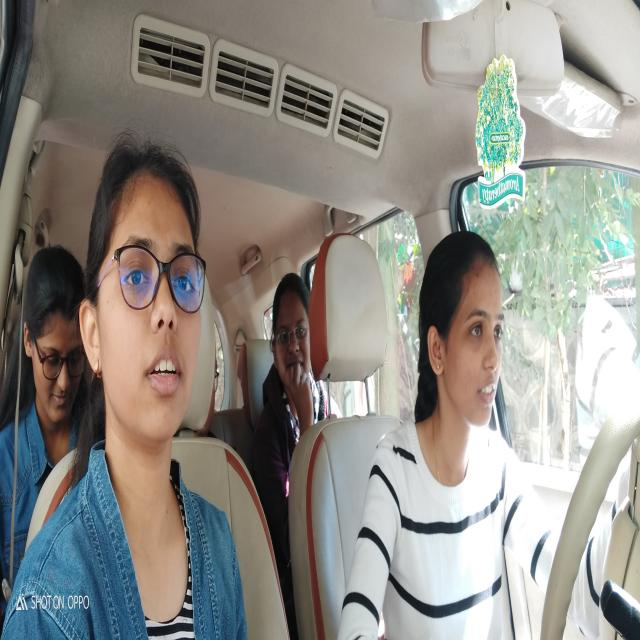person: (78, 138, 210, 446), (422, 220, 510, 438), (23, 248, 82, 420), (269, 266, 311, 392)
